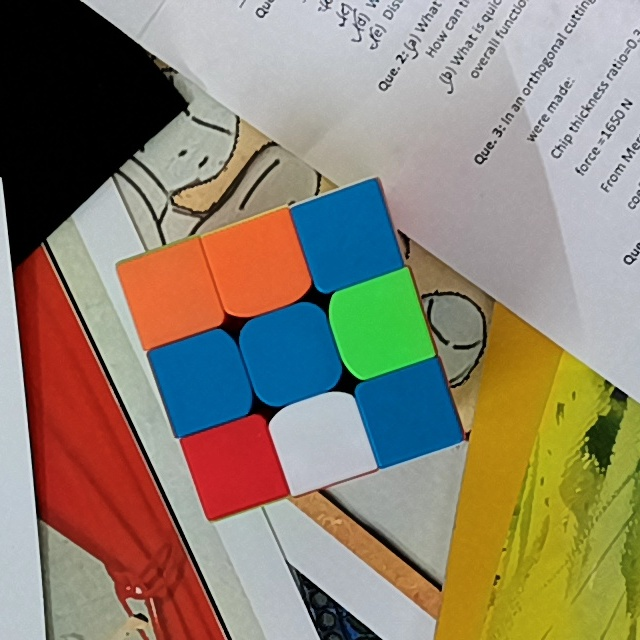tile: (220, 232, 293, 301), (168, 346, 240, 415), (347, 290, 416, 361), (255, 320, 327, 388), (136, 257, 204, 327), (313, 201, 380, 272), (201, 433, 271, 498), (376, 379, 446, 443), (287, 407, 357, 470)
